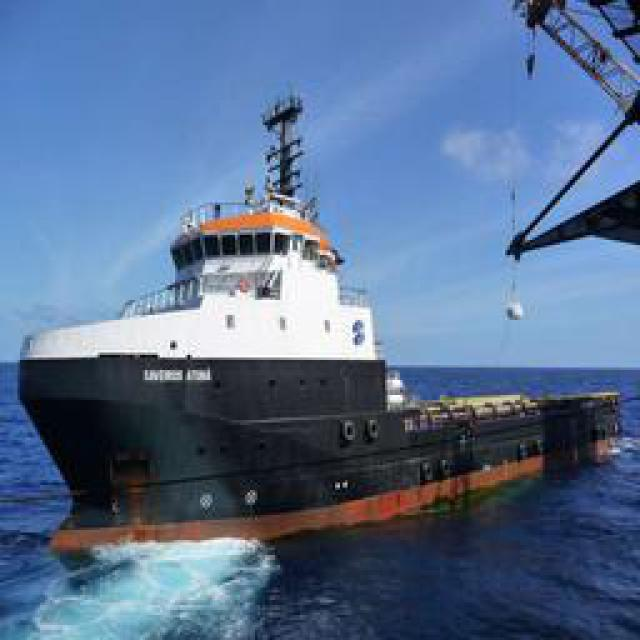Ship: (20, 130, 593, 560)
